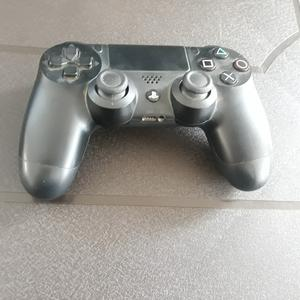controller: (19, 41, 270, 198)
